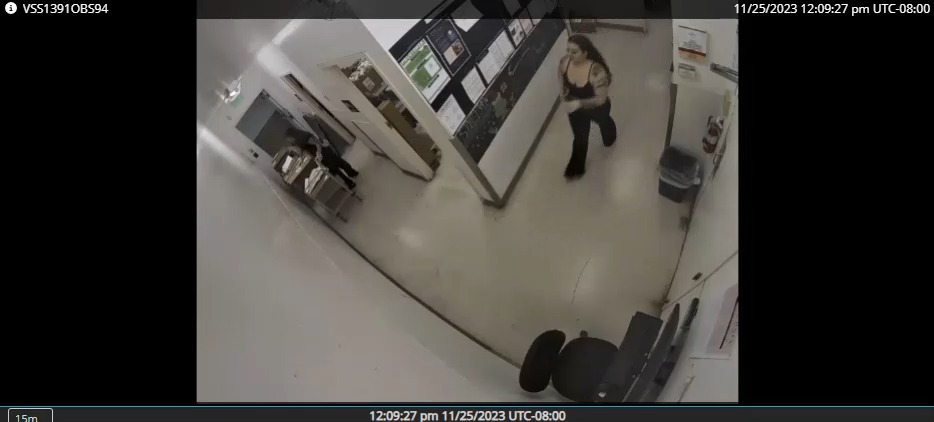gloves: (562, 95, 589, 120)
